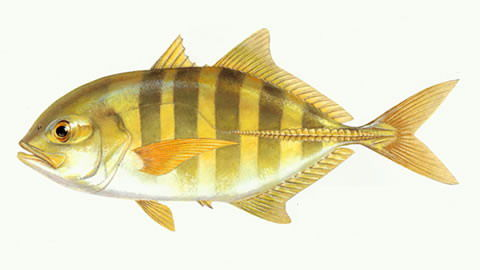fish: (18, 28, 461, 232)
